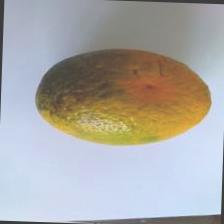Orange Rotten: (28, 38, 216, 158)
